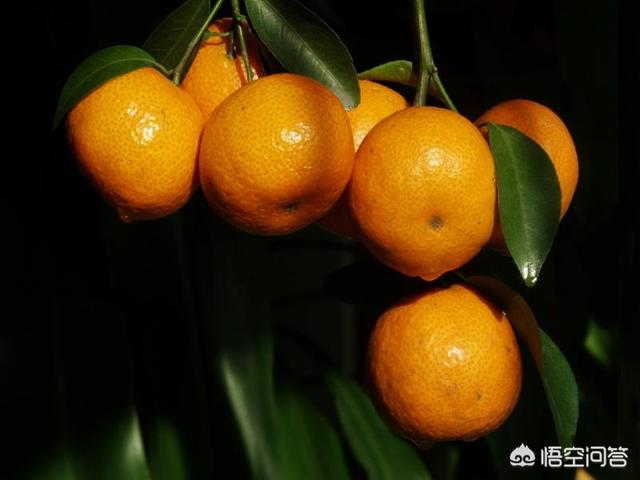orange: (351, 103, 496, 278), (197, 71, 353, 231), (366, 280, 520, 441), (71, 56, 207, 218), (458, 98, 578, 233), (173, 19, 286, 148), (298, 71, 407, 200)
